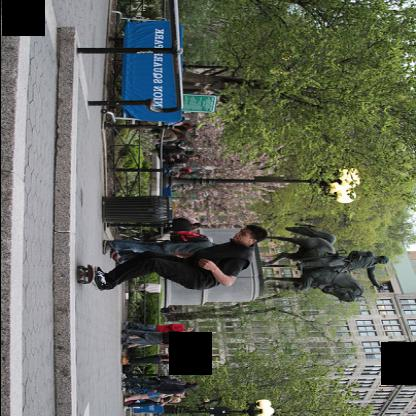backpack: (168, 231, 208, 243)
